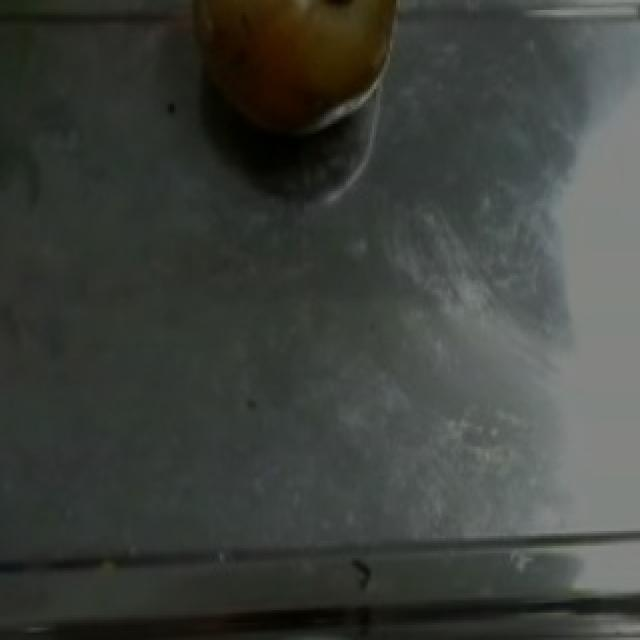fruit: (172, 2, 432, 154)
